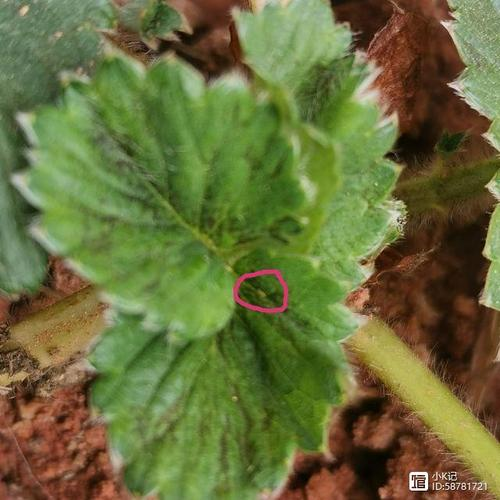Phlaeothripidae: (256, 285, 271, 303)
